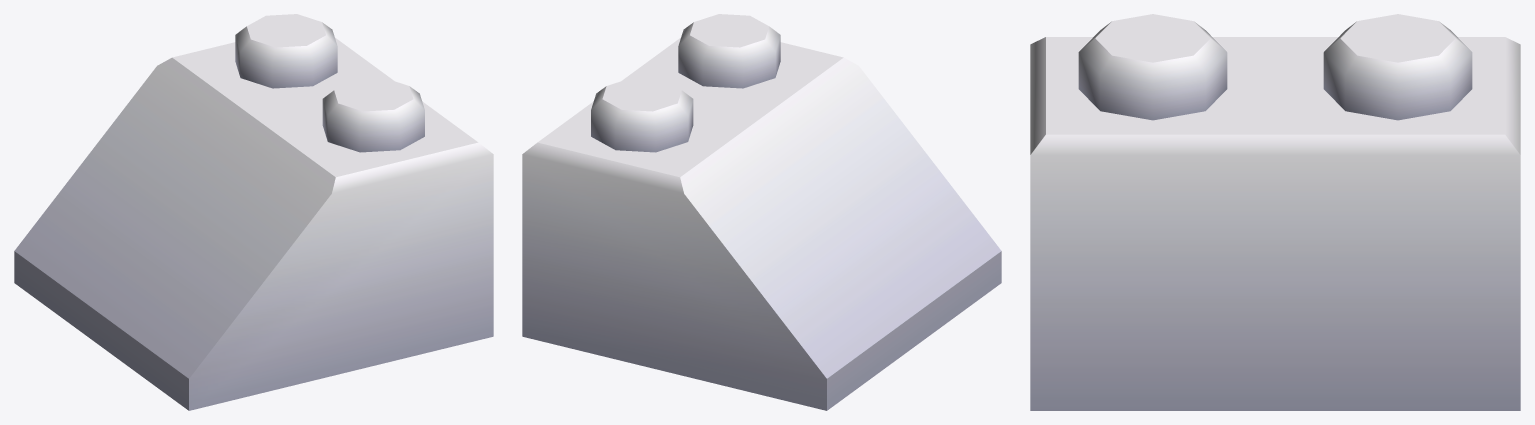
The model's file is kenney-brick-round-hq-brick-slope-2-x-2.glb.
3 views of the same model, side by side, from view 1: azimuth 30°, elevation 25°; view 2: azimuth 150°, elevation 25°; view 3: azimuth 270°, elevation 25° (orthographic). The views are drawn at different scales.
Parts seen in each view (by area): view 1: round-hq-brick-slope-2x2; view 2: round-hq-brick-slope-2x2; view 3: round-hq-brick-slope-2x2.
Boxes of the visible parts, box(x1,y1,x2,y2) form: round-hq-brick-slope-2x2: box(14, 14, 493, 410); round-hq-brick-slope-2x2: box(522, 14, 1001, 410); round-hq-brick-slope-2x2: box(1030, 14, 1520, 410).
Bounding box in the file's own units: 0.159 × 0.114 × 0.158.
1 material, 1 textured.
